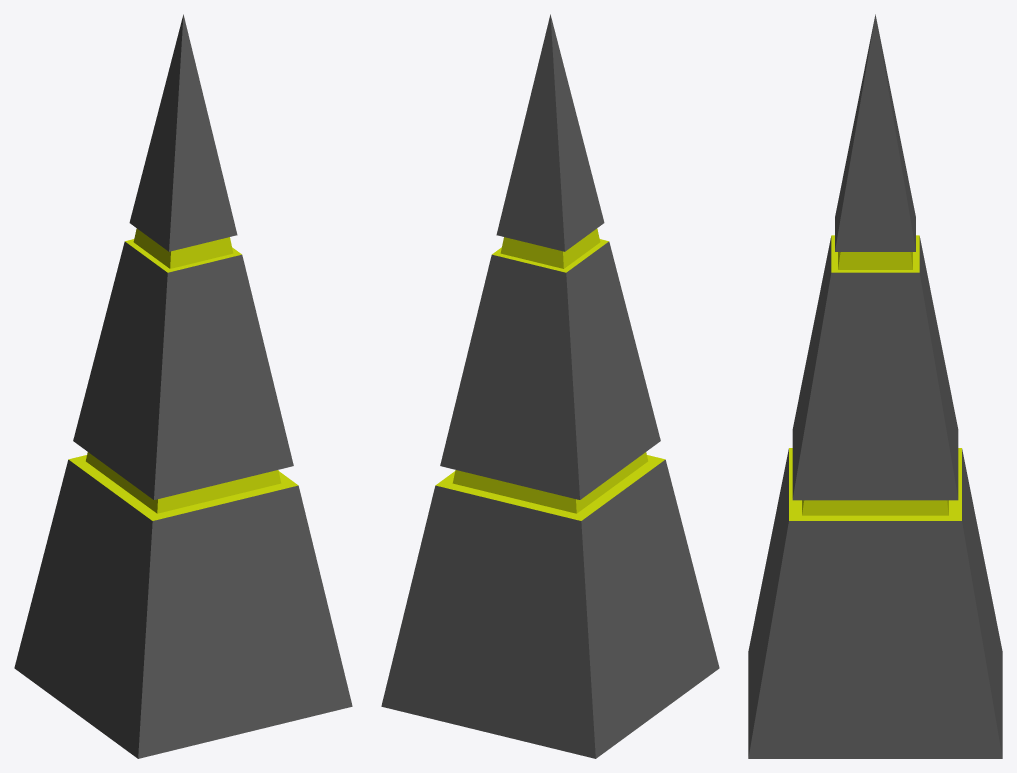
Rendered from Spike.fbx.
The picture shows the model from 3 angles, left to right: view 1: azimuth 30°, elevation 25°; view 2: azimuth 150°, elevation 25°; view 3: azimuth 270°, elevation 25°; orthographic projection. The views are drawn at different scales.
Parts seen in each view (by area): view 1: Spike; view 2: Spike; view 3: Spike.
Part boxes in pixels (left/top/right/bottom): Spike: left=14, top=14, right=352, bottom=758; Spike: left=381, top=14, right=719, bottom=758; Spike: left=748, top=14, right=1002, bottom=758.
Bounding box in the file's own units: 100 × 300 × 100.
